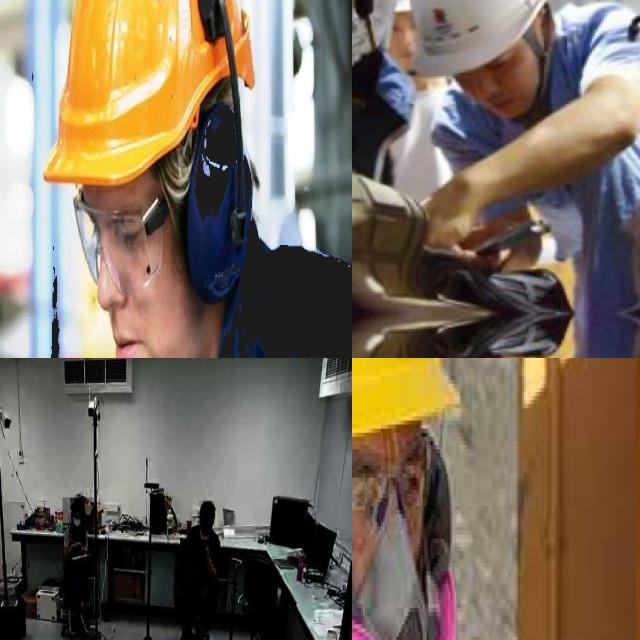Ear-protection: (181, 0, 254, 309), (415, 424, 458, 584)
No_Ear-Protection: (539, 5, 557, 48)
No_Glasses: (456, 46, 520, 88)
face_mask: (71, 513, 83, 527)
face_nomask: (467, 62, 540, 119), (197, 511, 213, 537)
glasses: (352, 449, 430, 538)
hand_glove: (410, 0, 546, 75)
hand_noglove: (427, 174, 472, 246)
head_helmet: (35, 0, 271, 195)
head_nohelmet: (199, 500, 215, 514), (70, 498, 84, 510)
person: (174, 501, 225, 640), (62, 497, 94, 640)
